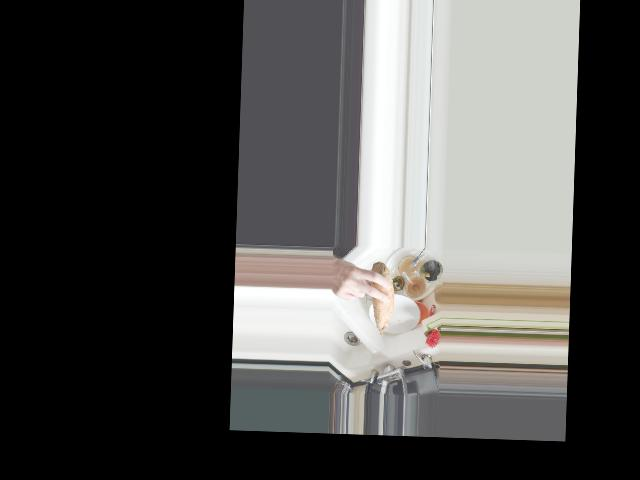sweet_potato: (365, 258, 394, 338)
